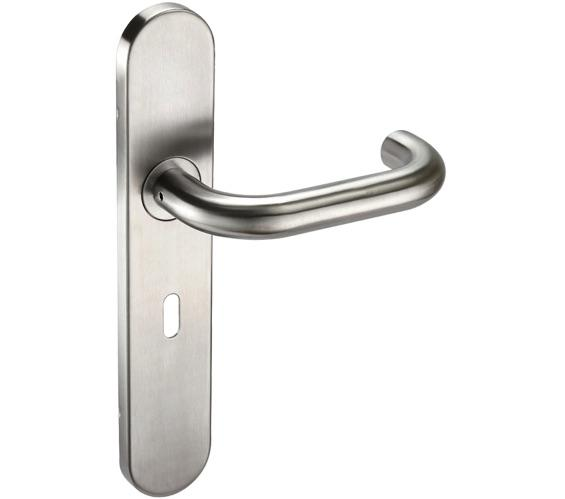doorhandle: (114, 95, 469, 264)
